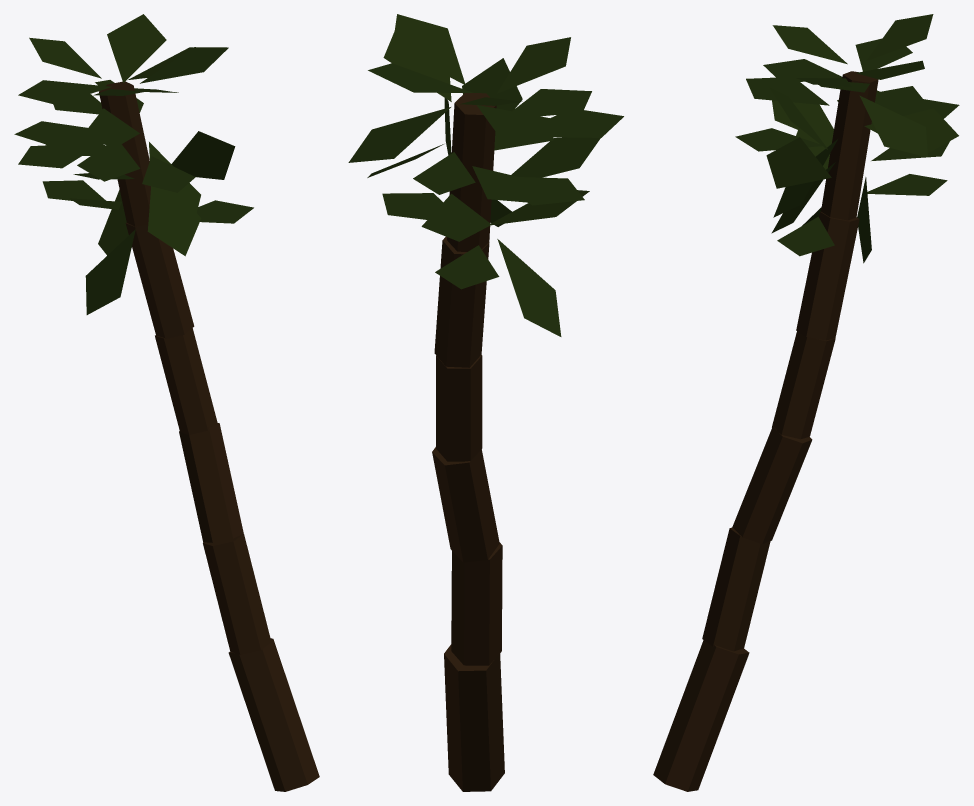
File: tree_403.obj
3 renders of one model, left to right at view 1: azimuth 30°, elevation 25°; view 2: azimuth 150°, elevation 25°; view 3: azimuth 270°, elevation 25°, orthographic. The views are drawn at different scales.
Visible parts, largest first — view 1: TrunkAndBranches, Leaves; view 2: Leaves, TrunkAndBranches; view 3: TrunkAndBranches, Leaves.
Part boxes in pixels (x1,y1,x2,y2): TrunkAndBranches: [99, 81, 319, 791]; Leaves: [14, 14, 253, 314]; Leaves: [348, 14, 623, 336]; TrunkAndBranches: [432, 93, 504, 791]; TrunkAndBranches: [653, 71, 878, 791]; Leaves: [735, 14, 959, 263].
Size of the model in its own units: 0.6911 by 2.26 by 0.8884.
